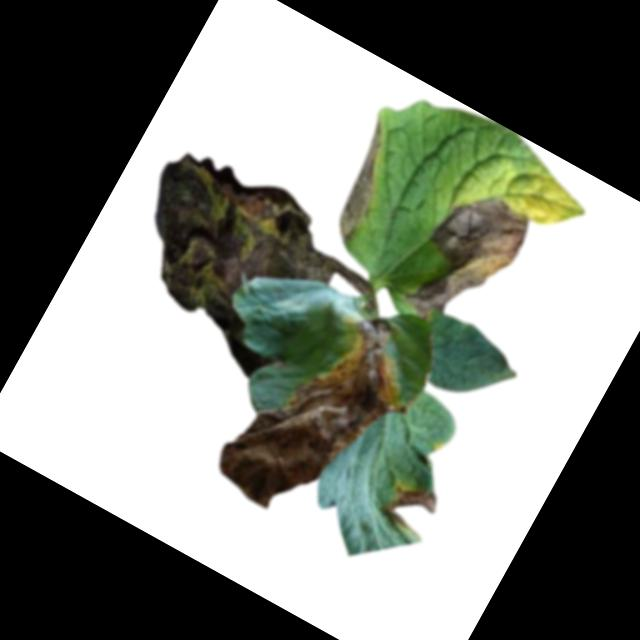Early_blight: (94, 129, 358, 388), (207, 282, 441, 547), (396, 180, 537, 343), (316, 117, 409, 245), (375, 473, 444, 542)
